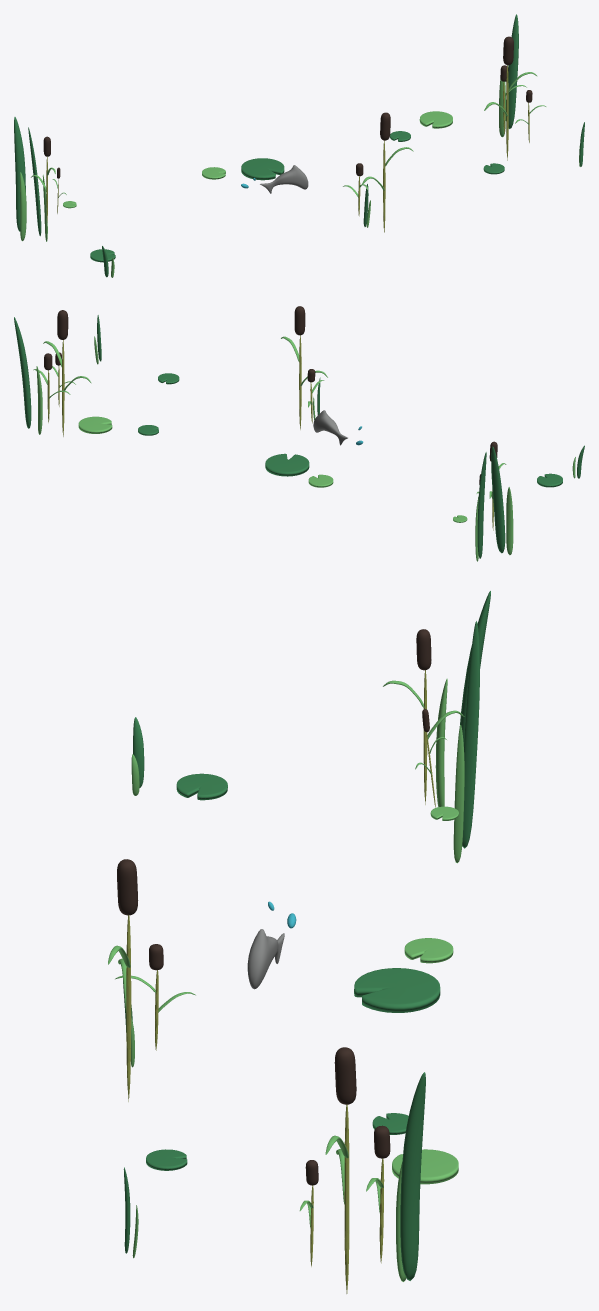
Rendered from VisHabitatContext2 - Copy.fbx.
3 renders of one model, top to bottom at view 1: azimuth 30°, elevation 25°; view 2: azimuth 150°, elevation 25°; view 3: azimuth 270°, elevation 25°, orthographic. The views are drawn at different scales.
Visible parts, largest first — view 1: Vijver.006; view 2: Vijver.006; view 3: Vijver.006.
Boxes of the visible parts, bbox=[...] form: Vijver.006: bbox=[14, 14, 584, 277]; Vijver.006: bbox=[14, 306, 584, 561]; Vijver.006: bbox=[108, 591, 490, 1293].
Bounding box in the file's own units: 289 × 73.96 × 97.35.
